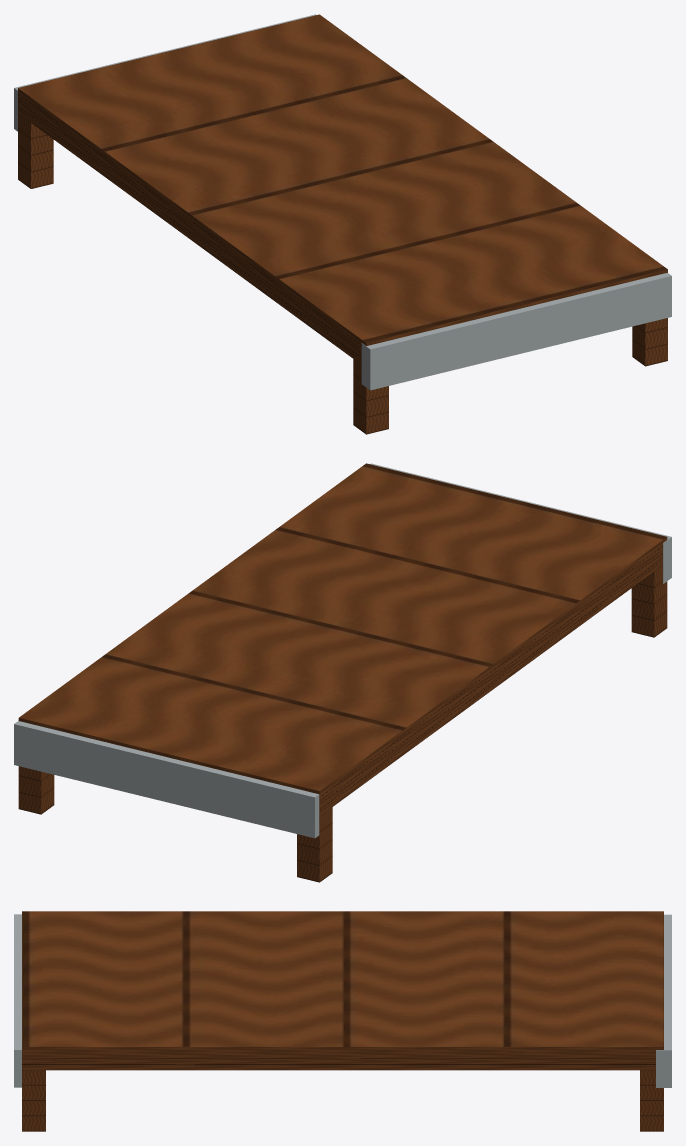
File: rural-scavenging-settlements-straw-loft-pallet-db94412b__26585.glb
The picture shows the model from 3 angles, top to bottom: view 1: azimuth 30°, elevation 25°; view 2: azimuth 150°, elevation 25°; view 3: azimuth 270°, elevation 25°; orthographic projection. The views are drawn at different scales.
Visible parts, largest first — view 1: straw-loft-pallet; view 2: straw-loft-pallet; view 3: straw-loft-pallet.
Part boxes in pixels (left/top/right/bottom): straw-loft-pallet: left=14, top=14, right=671, bottom=434; straw-loft-pallet: left=14, top=463, right=671, bottom=882; straw-loft-pallet: left=14, top=911, right=671, bottom=1131.
Bounding box in the file's own units: 1 × 0.29 × 2.05.
2 materials, 1 textured.
